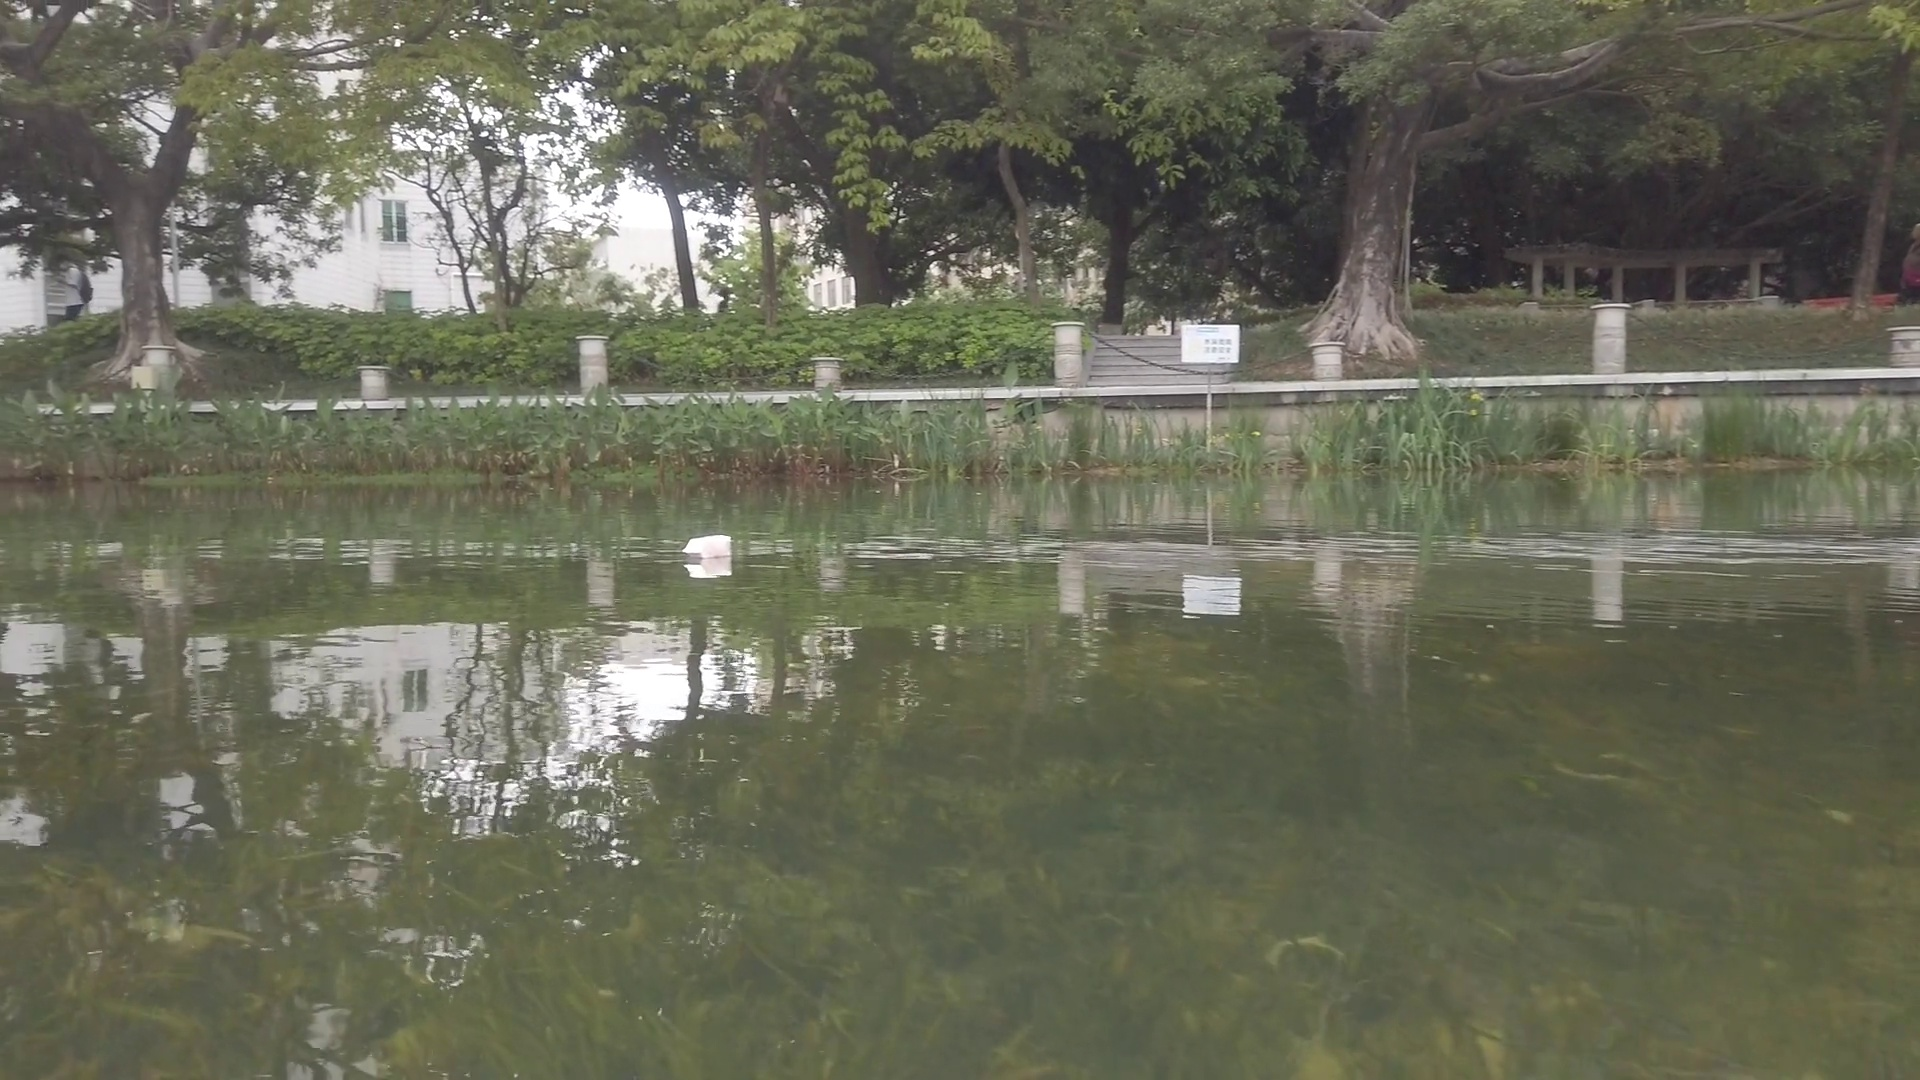carton: (684, 535, 732, 558)
